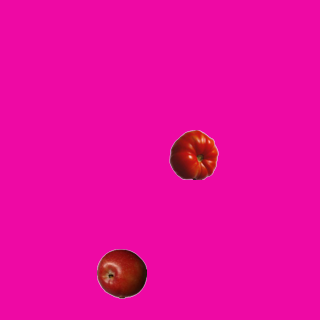Apple Braeburn: (96, 248, 146, 298)
Tomato 3: (168, 129, 218, 179)
